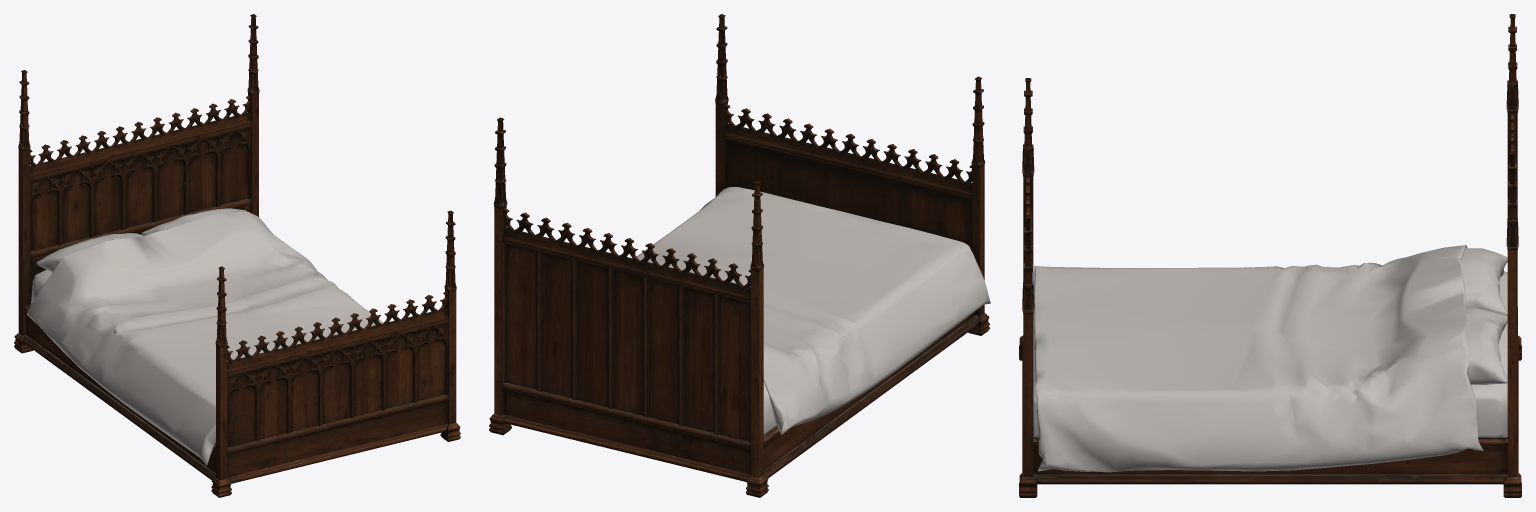
File: ph-GothicBed_01.glb
The picture shows the model from 3 angles, left to right: view 1: azimuth 30°, elevation 25°; view 2: azimuth 150°, elevation 25°; view 3: azimuth 270°, elevation 25°; orthographic projection. The views are drawn at different scales.
Visible parts, largest first — view 1: GothicBed_01; view 2: GothicBed_01; view 3: GothicBed_01.
Boxes of the visible parts, <box> form: GothicBed_01: <box>14,14,460,497</box>; GothicBed_01: <box>489,14,990,497</box>; GothicBed_01: <box>1019,14,1521,497</box>.
Bounding box in the file's own units: 0.7323 × 0.7519 × 1.
1 material, 1 textured.
